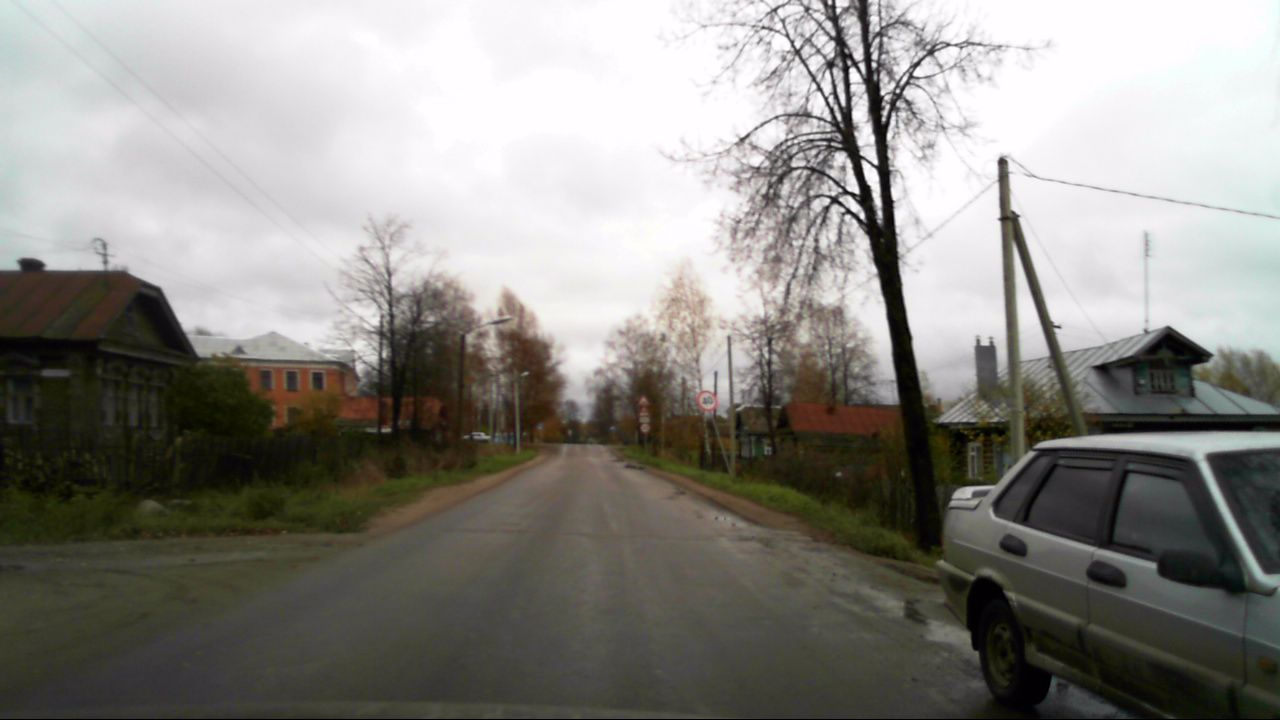speed_warning_40: (696, 389, 718, 411)
